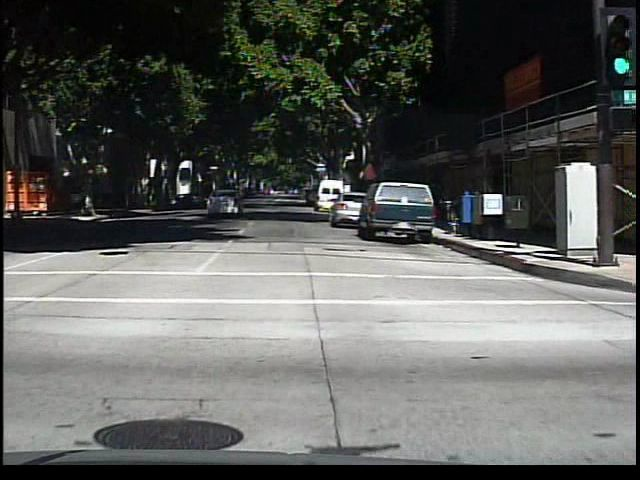person: (70, 184, 87, 219)
